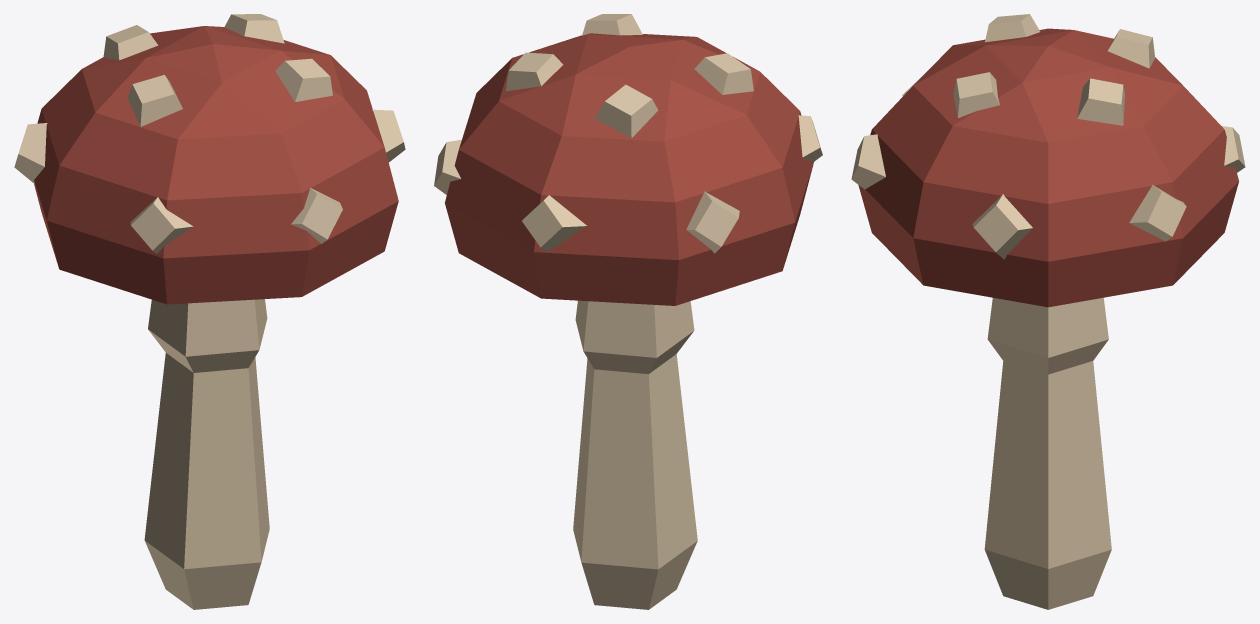
File: SM_Prop_Mushroom_06.fbx
3 renders of one model, left to right at view 1: azimuth 30°, elevation 25°; view 2: azimuth 150°, elevation 25°; view 3: azimuth 270°, elevation 25°, orthographic.
Visible parts, largest first — view 1: SM_Prop_Mushroom_06; view 2: SM_Prop_Mushroom_06; view 3: SM_Prop_Mushroom_06.
Boxes of the visible parts, x1,y1,x2,y2 form: SM_Prop_Mushroom_06: [14, 14, 405, 609]; SM_Prop_Mushroom_06: [434, 14, 822, 609]; SM_Prop_Mushroom_06: [851, 14, 1245, 609].
Bounding box in the file's own units: 12.66 × 19.86 × 13.04.
Materials: 1 (1 with a texture image).
